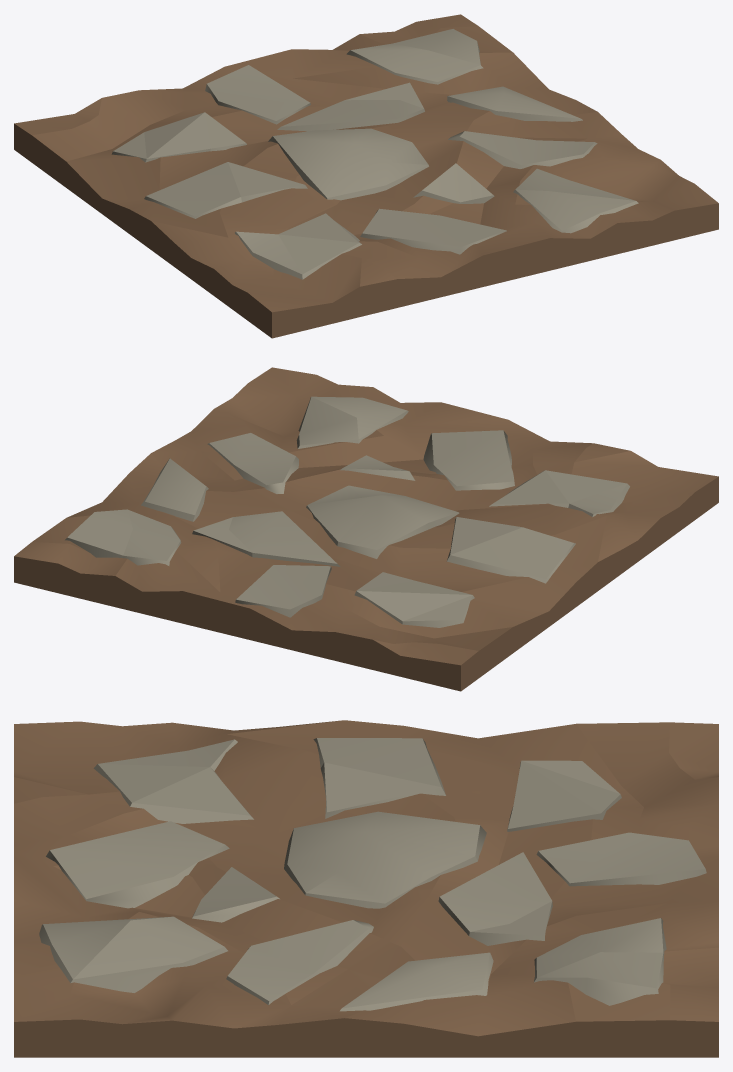
The model's file is Ground_Stones_1.glb.
3 renders of one model, top to bottom at view 1: azimuth 30°, elevation 25°; view 2: azimuth 150°, elevation 25°; view 3: azimuth 270°, elevation 25°, orthographic. The views are drawn at different scales.
Visible parts, largest first — view 1: Ground_Stones_1; view 2: Ground_Stones_1; view 3: Ground_Stones_1.
Part boxes in pixels (<box>): Ground_Stones_1: <box>14,14,718,338</box>; Ground_Stones_1: <box>14,367,718,691</box>; Ground_Stones_1: <box>14,720,718,1057</box>.
Bounding box in the file's own units: 1.47 × 0.1565 × 1.47.
